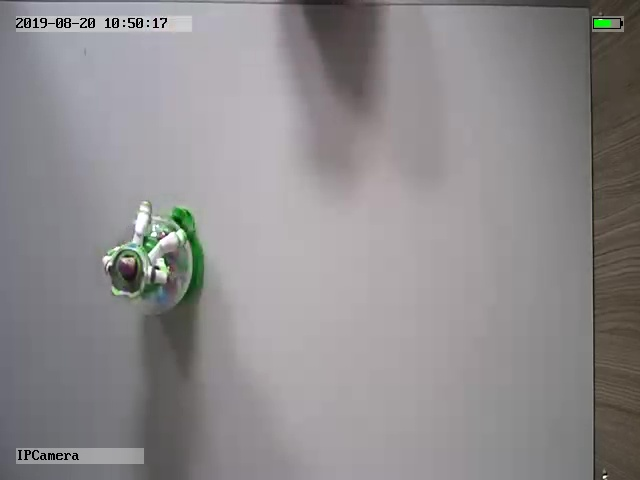buzz: (100, 199, 205, 315)
